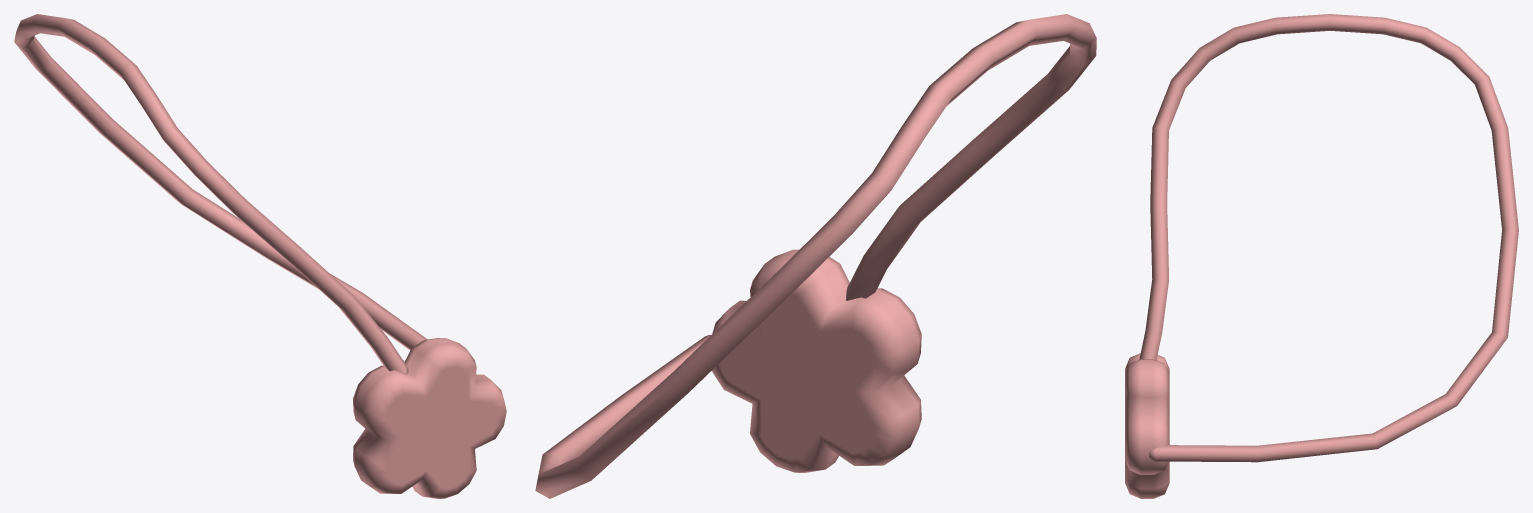
Rendered from cherry_blossom_pochette.glb.
The picture shows the model from 3 angles, left to right: view 1: azimuth 30°, elevation 25°; view 2: azimuth 150°, elevation 25°; view 3: azimuth 270°, elevation 25°; orthographic projection. The views are drawn at different scales.
Parts seen in each view (by area): view 1: cherry_blossom_pochette_Body; view 2: cherry_blossom_pochette_Body; view 3: cherry_blossom_pochette_Body.
Boxes of the visible parts, x1,y1,x2,y2 form: cherry_blossom_pochette_Body: (14,14,506,498); cherry_blossom_pochette_Body: (535,14,1096,498); cherry_blossom_pochette_Body: (1125,14,1518,498).
Size of the model in its own units: 0.3533 by 0.4715 by 0.4416.
